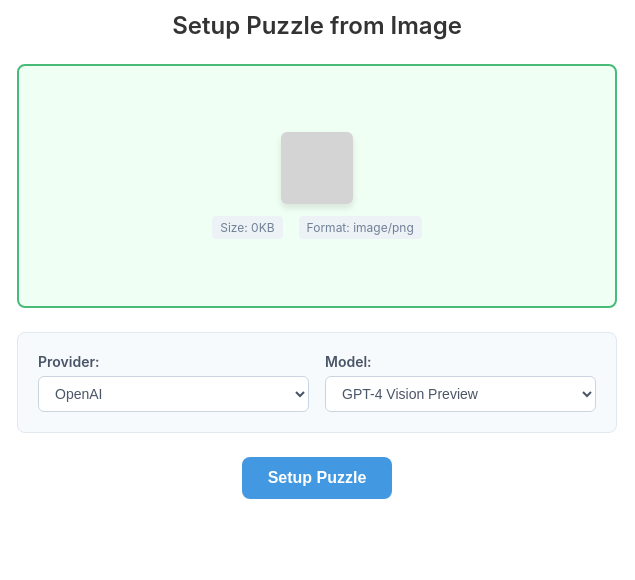
Test: ImagePuzzleSetup - Error Handling › Backend Error Handling › displays error for HTTP 413 payload too large
Click the button labelled "Setup Puzzle": (317, 478) [242, 457, 392, 499]
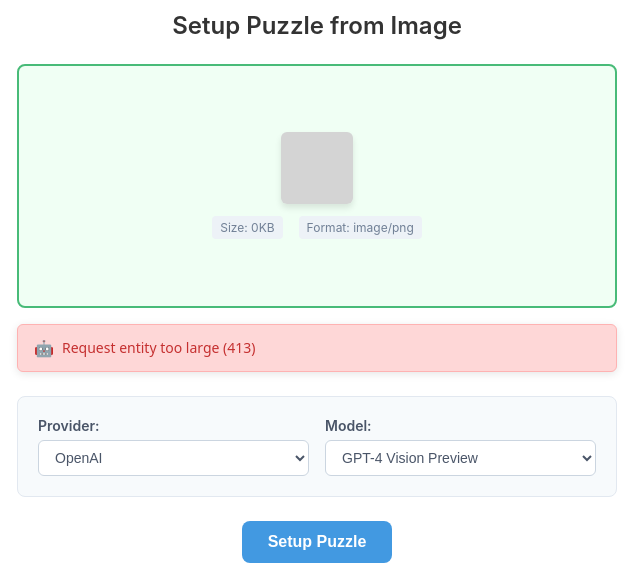
Result: the text "🤖 Request entity too large (413)" is shown at [17, 324, 617, 372]
